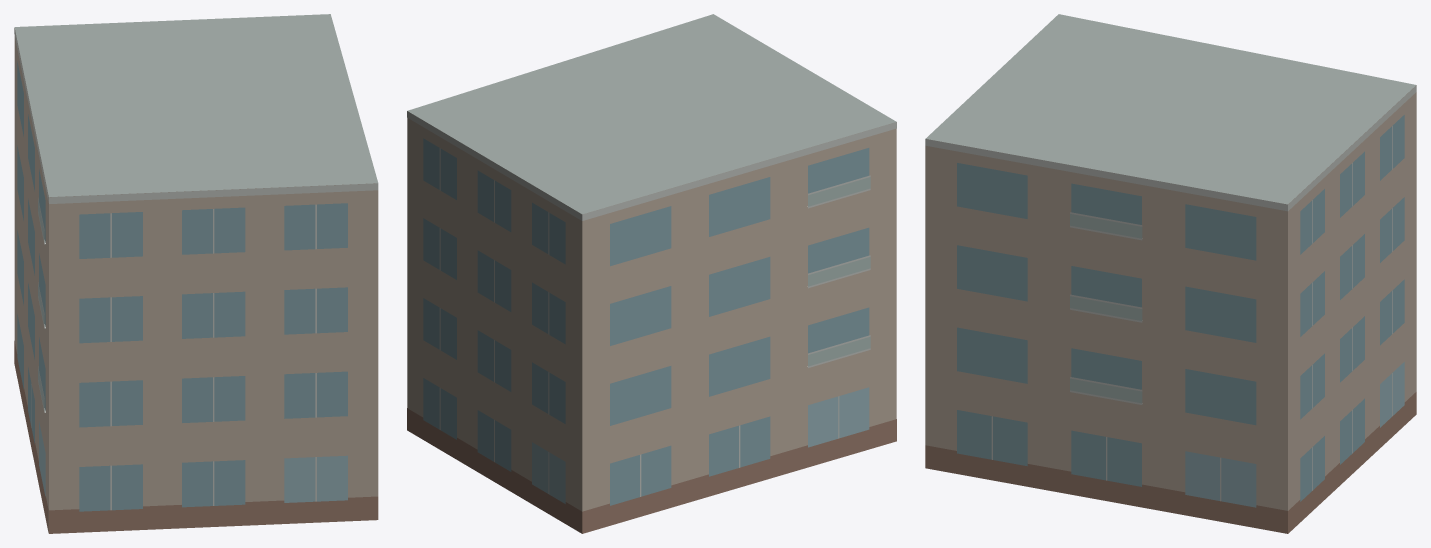
Rendered from survey-upis-32532845.glb.
3 renders of one model, left to right at view 1: azimuth 30°, elevation 25°; view 2: azimuth 150°, elevation 25°; view 3: azimuth 270°, elevation 25°, orthographic. The views are drawn at different scales.
Parts seen in each view (by area): view 1: survey-upis-32532845.tmp; view 2: survey-upis-32532845.tmp; view 3: survey-upis-32532845.tmp.
Part boxes in pixels (x1,y1,x2,y2): survey-upis-32532845.tmp: [14, 14, 378, 533]; survey-upis-32532845.tmp: [407, 14, 896, 533]; survey-upis-32532845.tmp: [925, 14, 1416, 533].
Size of the model in its own units: 14.52 by 11.7 by 15.82.
